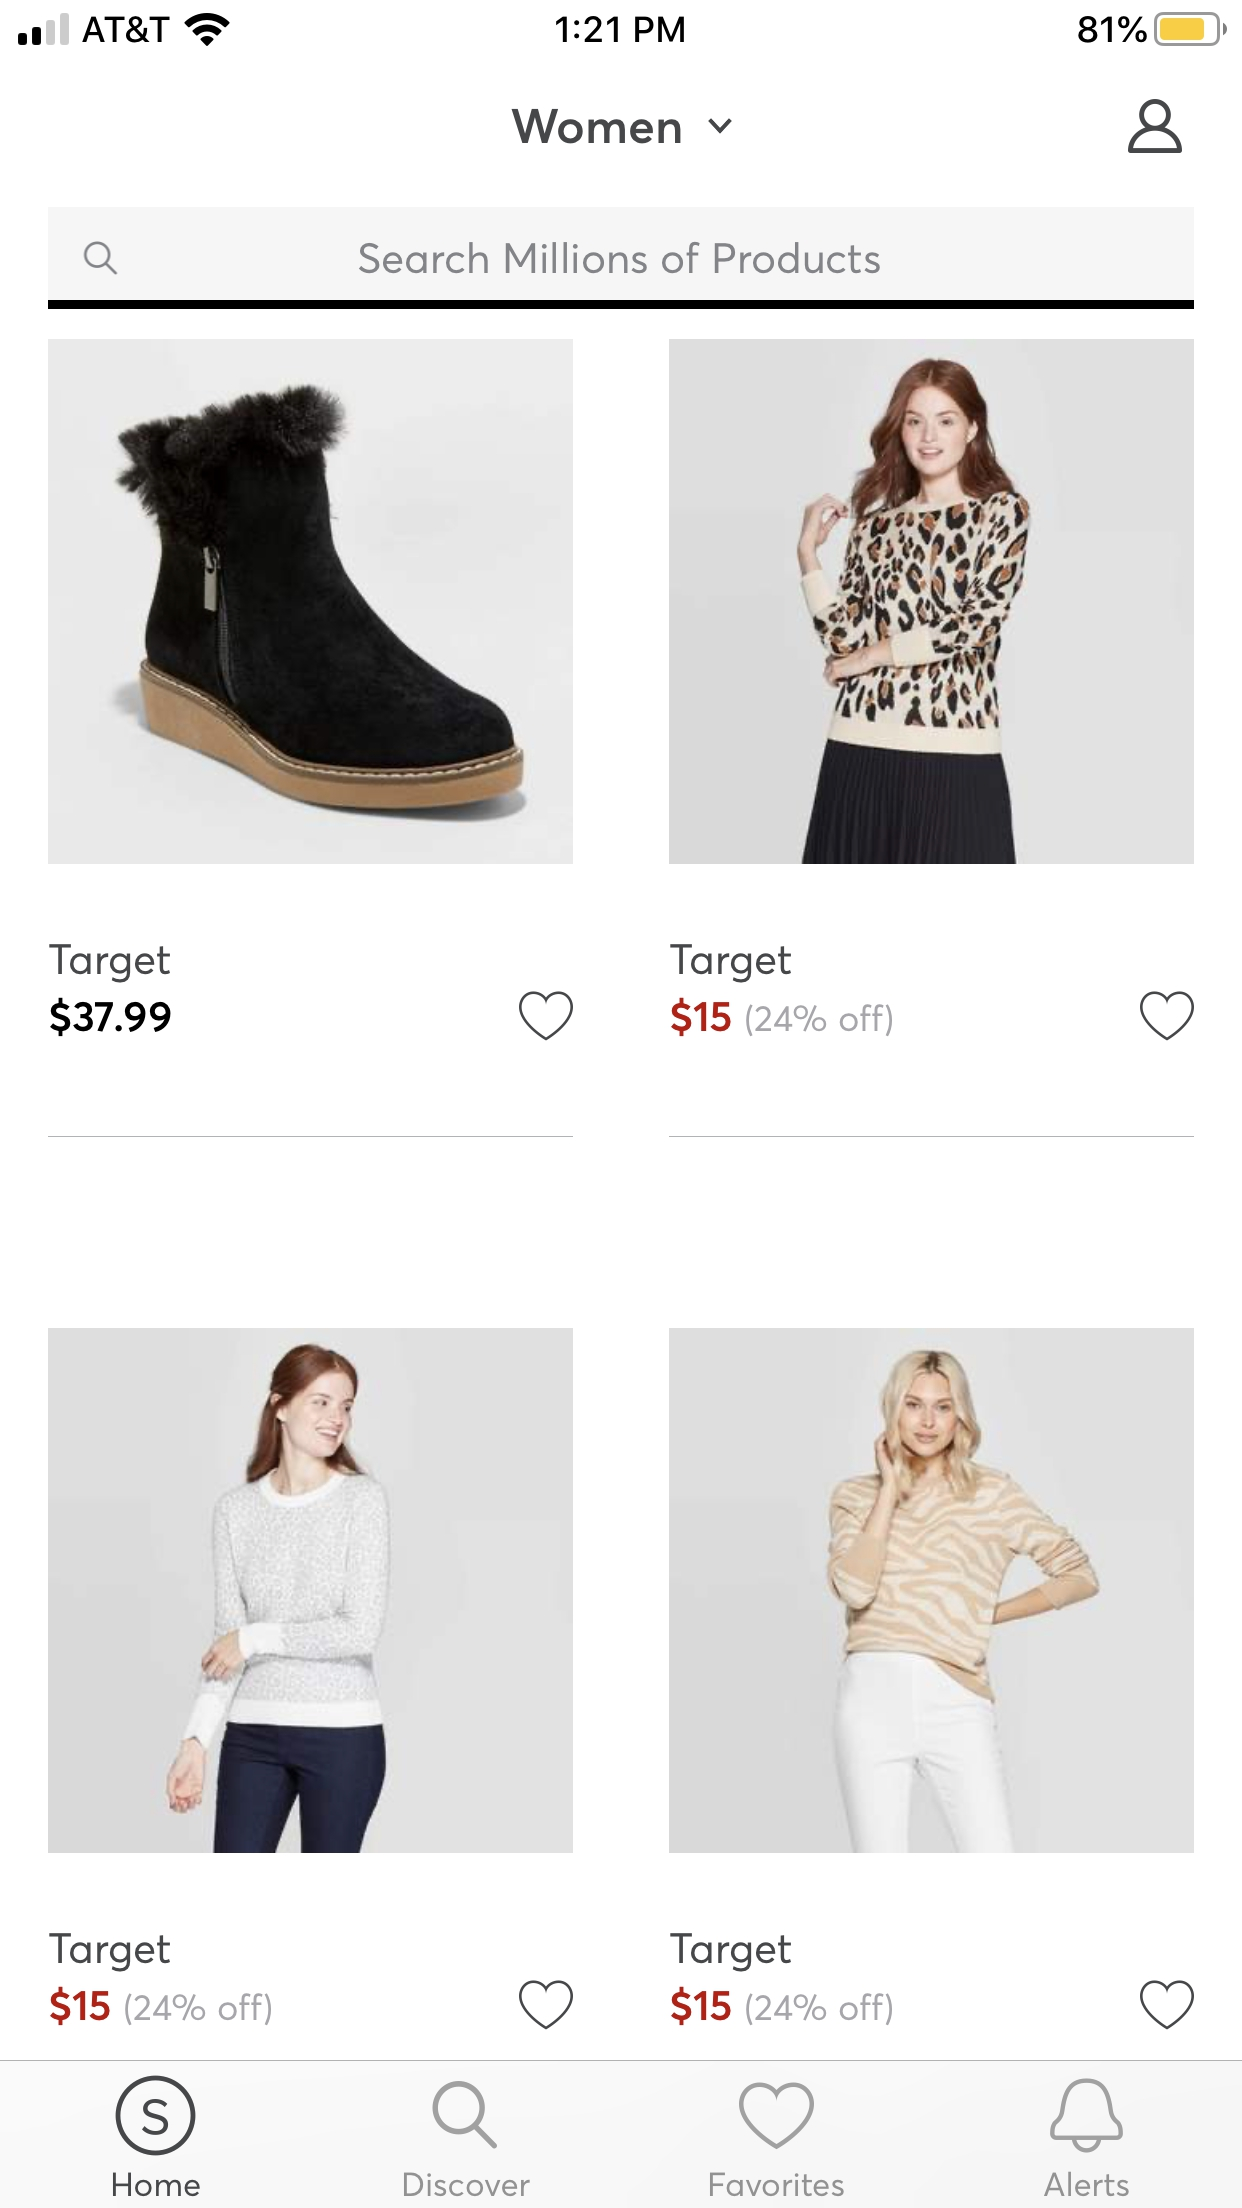EditText: (49, 206, 1195, 309)
Icon: (1049, 2078, 1124, 2153), (739, 2081, 814, 2150), (434, 2081, 499, 2150), (1127, 99, 1183, 155), (519, 1979, 575, 2031), (1139, 1979, 1195, 2031), (519, 990, 575, 1040), (83, 241, 118, 276), (708, 118, 732, 135)
Image: (669, 1328, 1195, 1855), (49, 1328, 575, 1855), (49, 340, 575, 864), (669, 340, 1193, 864), (115, 2075, 197, 2156)
Text: (359, 241, 883, 276), (670, 1985, 893, 2026), (670, 996, 893, 1037), (50, 1987, 273, 2026), (511, 109, 681, 146), (669, 943, 792, 984), (50, 943, 173, 984), (49, 1932, 171, 1971), (669, 1932, 792, 1971), (50, 998, 171, 1037), (710, 2172, 845, 2197), (403, 2172, 531, 2197), (114, 2172, 202, 2197), (1043, 2172, 1130, 2197)
UpperTaskBar: (2, 2, 1242, 52)
